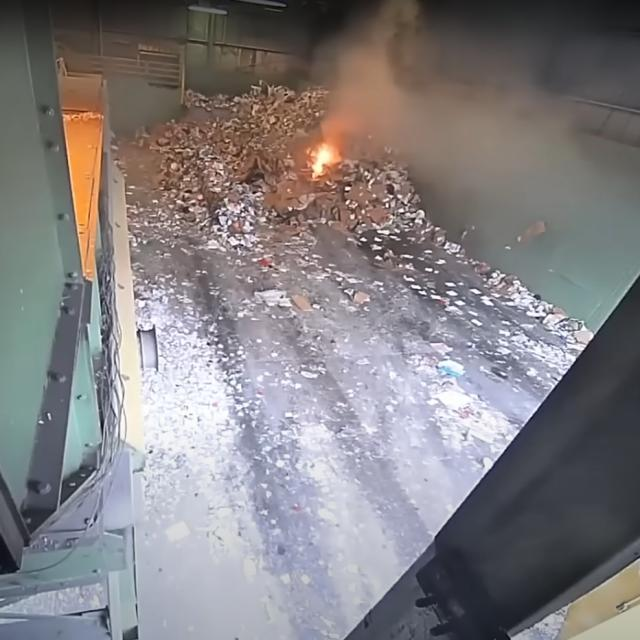Fire: (304, 142, 341, 181)
